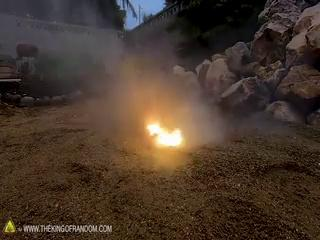Fire: (140, 117, 185, 148)
